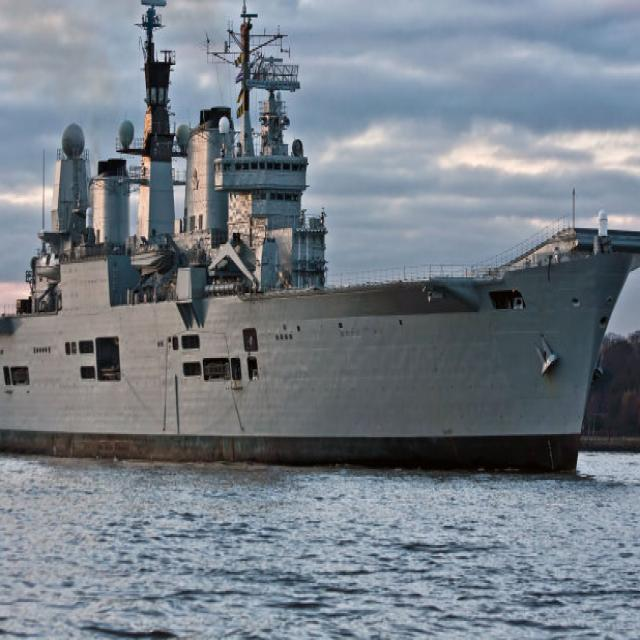Portanaves: (1, 1, 640, 489)
